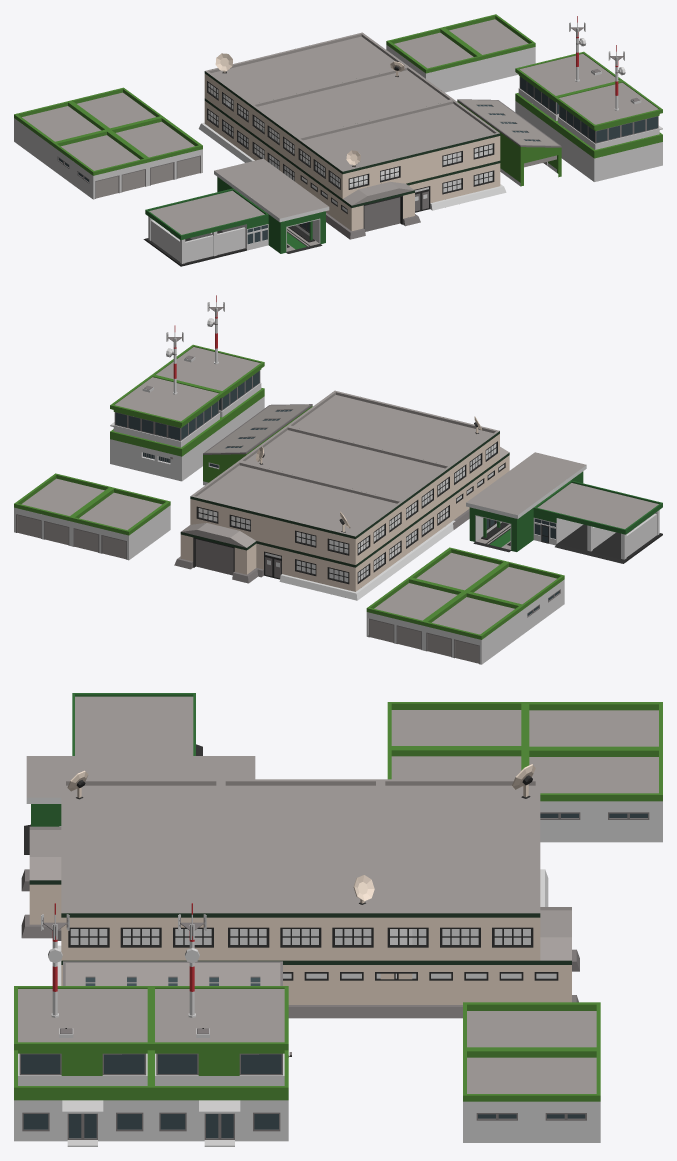
Rendered from company-buildings.glb.
3 renders of one model, top to bottom at view 1: azimuth 30°, elevation 25°; view 2: azimuth 150°, elevation 25°; view 3: azimuth 270°, elevation 25°, orthographic. The views are drawn at different scales.
Parts seen in each view (by area): view 1: military-headquarters, building-carwash, military-headquarters.002, military-headquarters.001, building-policestation.006, building-policestation-garage.002, building-policestation.005, building-policestation-garage.001, industry-storage, building-policestation-garage.006, building-policestation-garage.005, building-policestation-garage.003 (+1 smaller); view 2: military-headquarters.002, building-carwash, military-headquarters.001, military-headquarters, building-policestation.005, building-policestation-garage.003, building-policestation-garage.001, building-policestation.006, building-policestation-garage.007, building-policestation-garage.005, building-policestation-garage.002, industry-storage (+1 smaller); view 3: military-headquarters.002, military-headquarters.001, military-headquarters, building-policestation.005, building-policestation.006, building-carwash, building-policestation-garage.005, building-policestation-garage.007, building-policestation-garage.002, building-policestation-garage.001, building-policestation-garage.003, industry-storage (+1 smaller).
Boxes of the visible parts, bbox=[...] form: military-headquarters: bbox=[296, 99, 506, 239]; building-carwash: bbox=[143, 158, 329, 266]; military-headquarters.002: bbox=[198, 32, 407, 162]; military-headquarters.001: bbox=[244, 61, 453, 182]; building-policestation.006: bbox=[554, 45, 662, 181]; building-policestation-garage.002: bbox=[53, 130, 147, 199]; building-policestation.005: bbox=[515, 16, 622, 140]; building-policestation-garage.001: bbox=[386, 27, 480, 92]; industry-storage: bbox=[457, 99, 561, 186]; building-policestation-garage.006: bbox=[109, 116, 202, 185]; building-policestation-garage.005: bbox=[441, 14, 535, 83]; building-policestation-garage.003: bbox=[14, 101, 107, 170]; military-headquarters.002: bbox=[174, 461, 405, 600]; building-carwash: bbox=[466, 452, 662, 563]; military-headquarters.001: bbox=[239, 426, 455, 564]; military-headquarters: bbox=[287, 390, 509, 529]; building-policestation.005: bbox=[110, 325, 223, 481]; building-policestation-garage.003: bbox=[424, 592, 523, 664]; building-policestation-garage.001: bbox=[71, 487, 170, 560]; building-policestation.006: bbox=[152, 295, 264, 438]; building-policestation-garage.007: bbox=[366, 578, 465, 650]; building-policestation-garage.005: bbox=[14, 473, 112, 546]; building-policestation-garage.002: bbox=[466, 561, 564, 633]; industry-storage: bbox=[203, 404, 312, 485]; military-headquarters.002: bbox=[373, 779, 579, 1018]; military-headquarters.001: bbox=[221, 779, 416, 1018]; military-headquarters: bbox=[21, 770, 220, 985]; building-policestation.005: bbox=[151, 903, 291, 1146]; building-policestation.006: bbox=[14, 903, 151, 1146]; building-carwash: bbox=[24, 693, 255, 854]; building-policestation-garage.005: bbox=[463, 1049, 600, 1142]; building-policestation-garage.007: bbox=[525, 748, 662, 842]; building-policestation-garage.002: bbox=[387, 702, 525, 748]; building-policestation-garage.001: bbox=[463, 1002, 600, 1048]; building-policestation-garage.003: bbox=[525, 702, 662, 748]; industry-storage: bbox=[63, 961, 282, 985].
Bounding box in the file's own units: 69.81 × 16.74 × 47.14.
